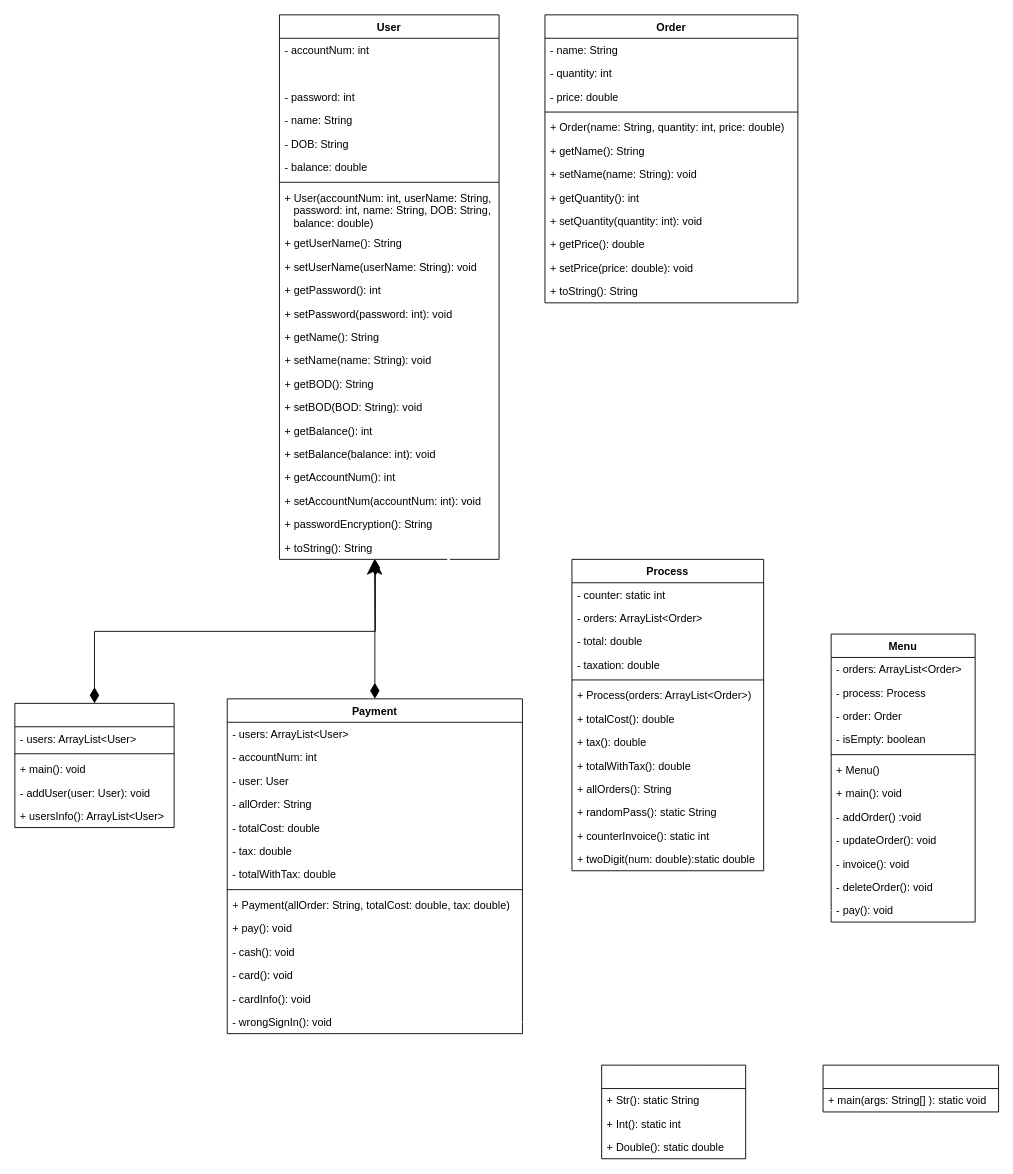
The diagram is 1013 pixels wide and 1174 high, and some of its shapes have lost their labels. The box of each missing label's shape, as (x1, y1, x2, y2) in pixels:
Database: (14, 702, 174, 828)
Program: (822, 1064, 999, 1112)
Read: (601, 1064, 746, 1159)
